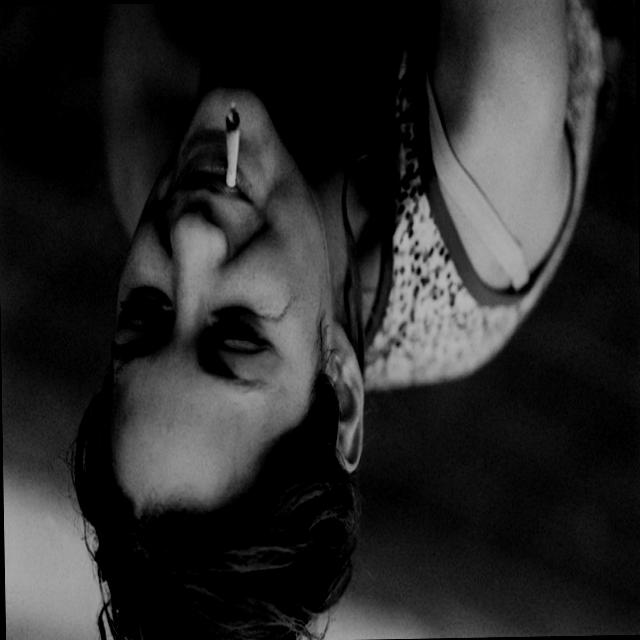cigarette: (216, 106, 242, 190)
